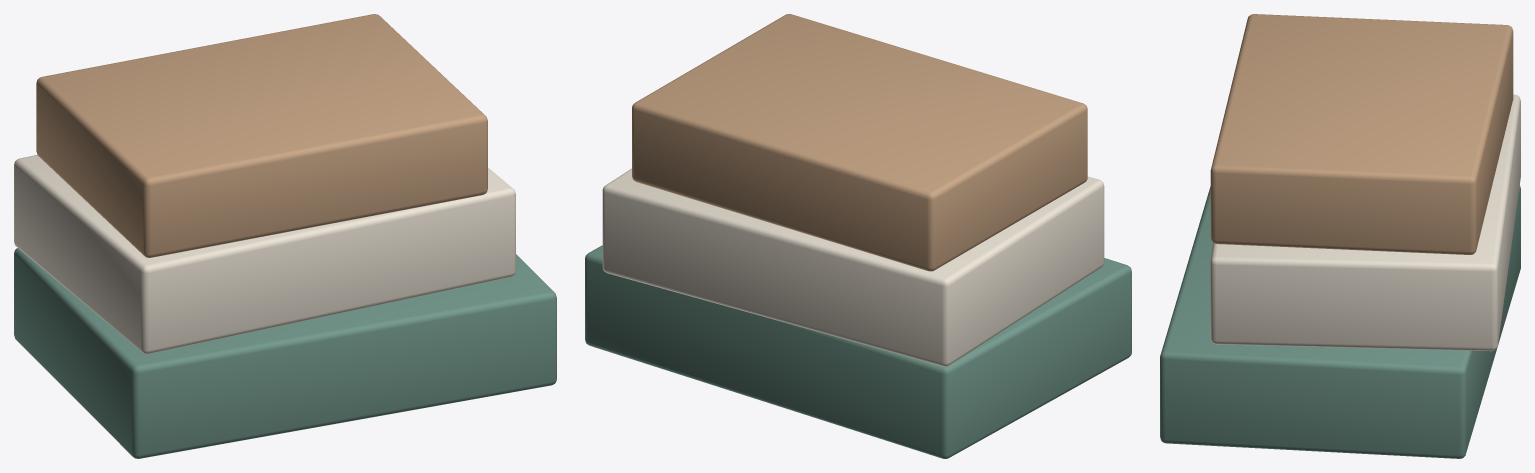
File: books_stack.glb
The picture shows the model from 3 angles, left to right: view 1: azimuth 30°, elevation 25°; view 2: azimuth 150°, elevation 25°; view 3: azimuth 270°, elevation 25°; orthographic projection.
Parts seen in each view (by area): view 1: book2, book0, book1; view 2: book2, book0, book1; view 3: book2, book0, book1.
Boxes of the visible parts, bbox=[...] form: book2: bbox=[36, 14, 487, 257]; book0: bbox=[14, 248, 556, 458]; book1: bbox=[14, 154, 515, 354]; book2: bbox=[632, 14, 1087, 271]; book0: bbox=[585, 245, 1131, 458]; book1: bbox=[602, 168, 1104, 366]; book2: bbox=[1210, 14, 1513, 254]; book0: bbox=[1160, 185, 1520, 458]; book1: bbox=[1210, 94, 1520, 351].
Size of the model in its own units: 0.2362 by 0.1379 by 0.1754.
